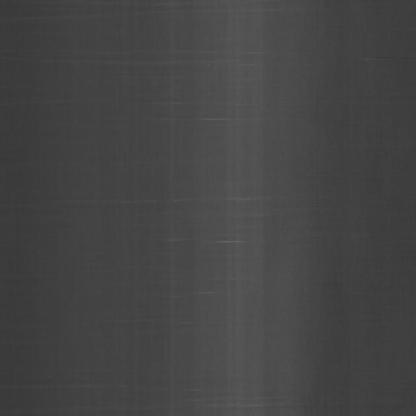waist_folding: (163, 26, 288, 365)
